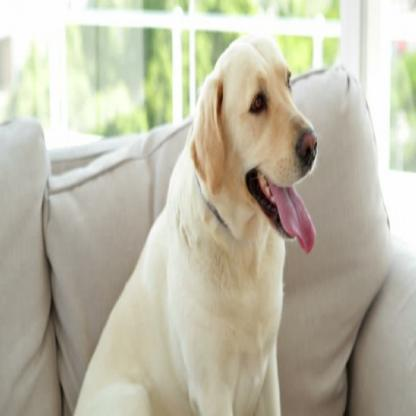Labarador Retriever: (75, 38, 317, 416)
